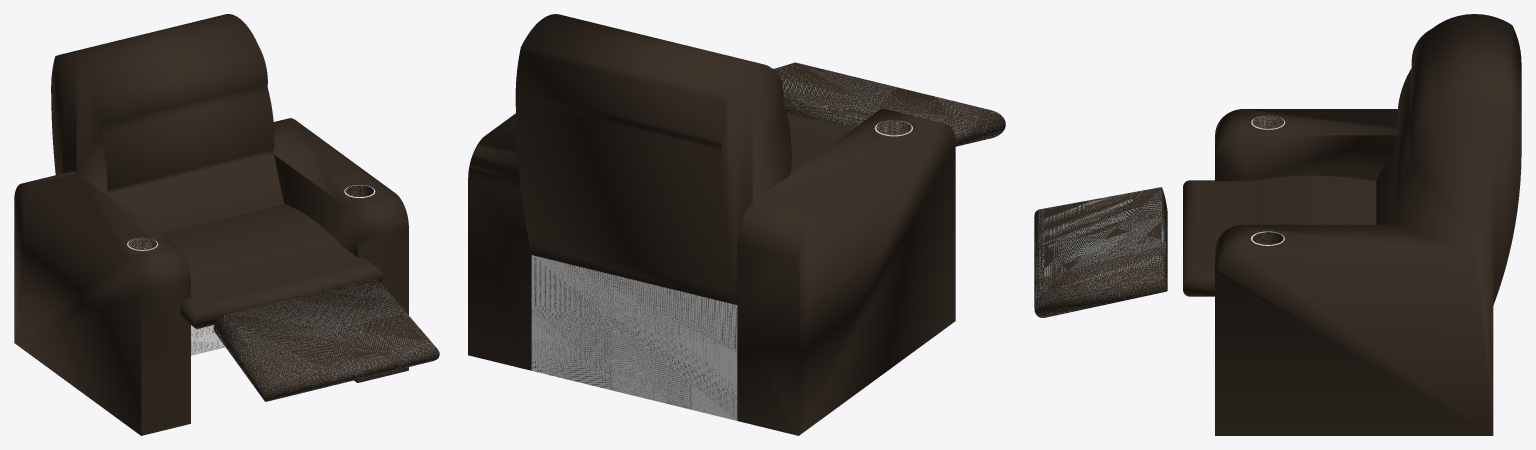
File: recliner.dae
The picture shows the model from 3 angles, left to right: view 1: azimuth 30°, elevation 25°; view 2: azimuth 150°, elevation 25°; view 3: azimuth 270°, elevation 25°; orthographic projection. The views are drawn at different scales.
Parts seen in each view (by area): view 1: Group_135 (×3); view 2: Group_135 (×3); view 3: Group_135 (×2).
Part boxes in pixels (bbox=[...]): Group_135 (×3): bbox=[14, 14, 439, 435]; Group_135 (×3): bbox=[468, 14, 1005, 435]; Group_135 (×2): bbox=[1034, 14, 1521, 435].
Size of the model in its own units: 40.1 by 57.63 by 39.86.
